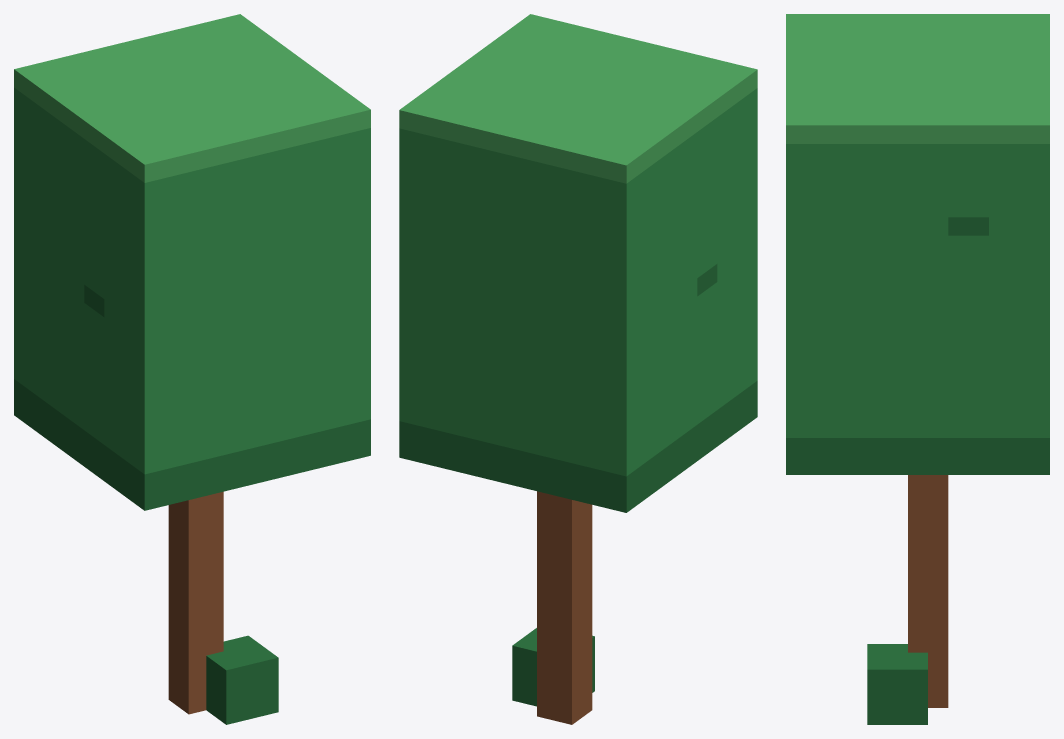
The model's file is deco_tree_box_small_cool.glb.
3 renders of one model, left to right at view 1: azimuth 30°, elevation 25°; view 2: azimuth 150°, elevation 25°; view 3: azimuth 270°, elevation 25°, orthographic.
Visible parts, largest first — view 1: model_0; view 2: model_0; view 3: model_0.
Boxes of the visible parts, x1,y1,x2,y2 form: model_0: (14,14,370,724); model_0: (399,14,757,724); model_0: (786,14,1049,724).
Size of the model in its own units: 0.52 by 1.36 by 0.52.
